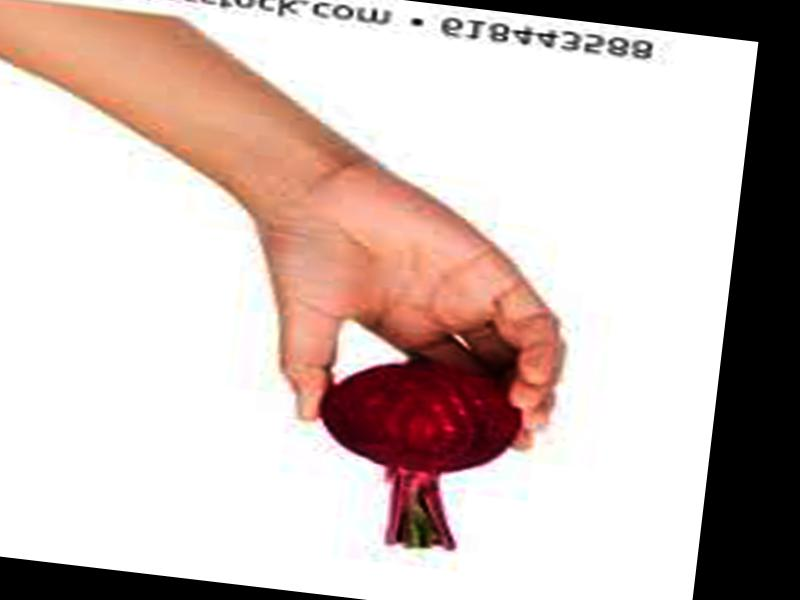Beet: (307, 354, 530, 559)
